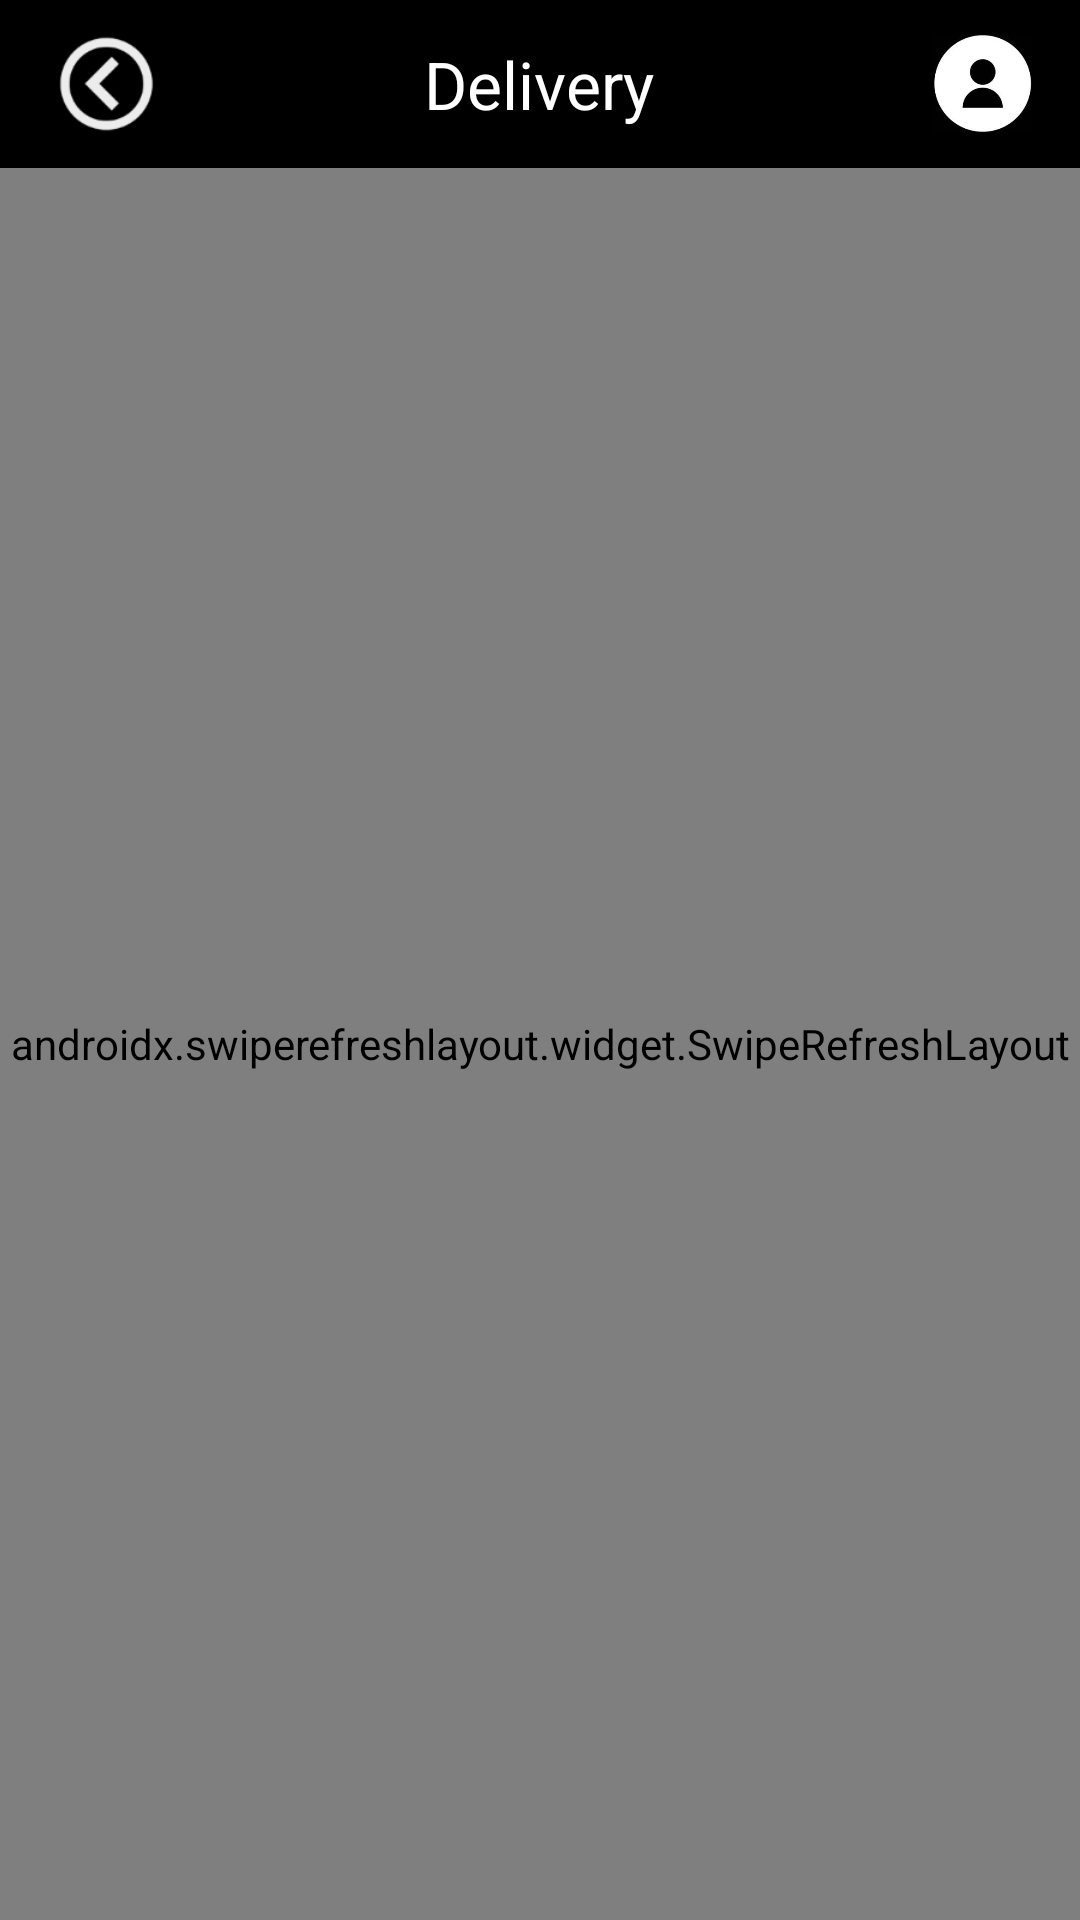

Icon click points for this 1080 × 1920 phone screenshot, format (x,y):
account: (982,83)
back: (106,84)
